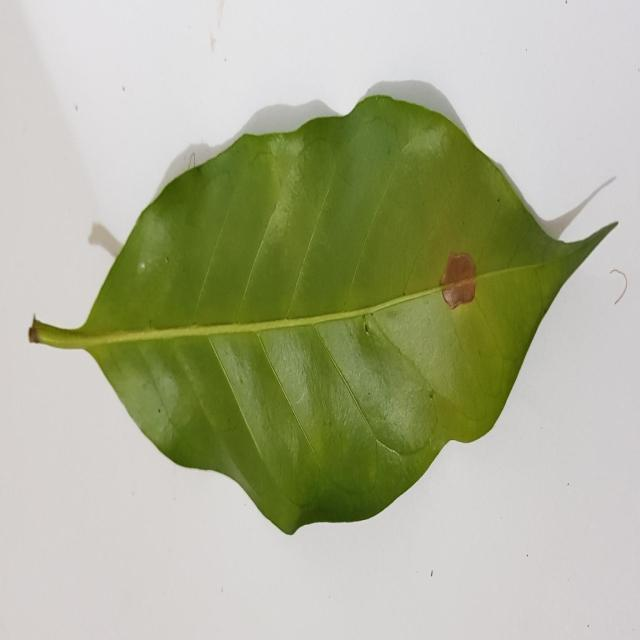Plaga-Minador: (28, 96, 617, 537)
